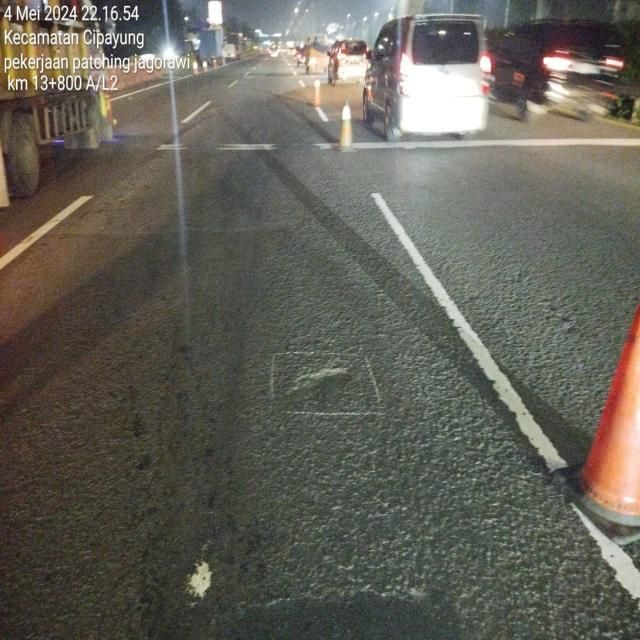Buraco: (204, 579, 468, 640), (280, 361, 359, 404)
